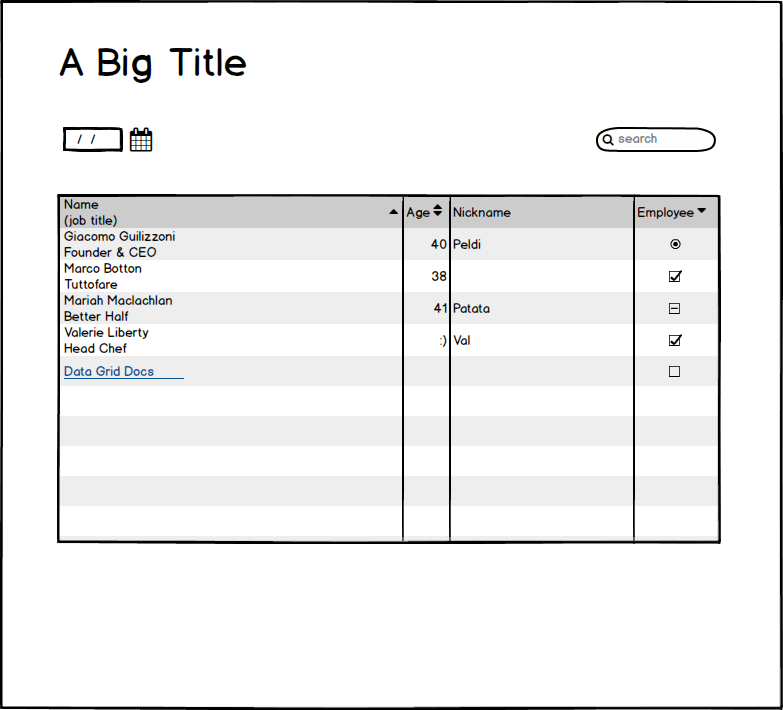date_picker: (58, 121, 163, 160)
h1: (53, 39, 254, 86)
search: (592, 119, 722, 157)
table: (52, 188, 725, 552)
